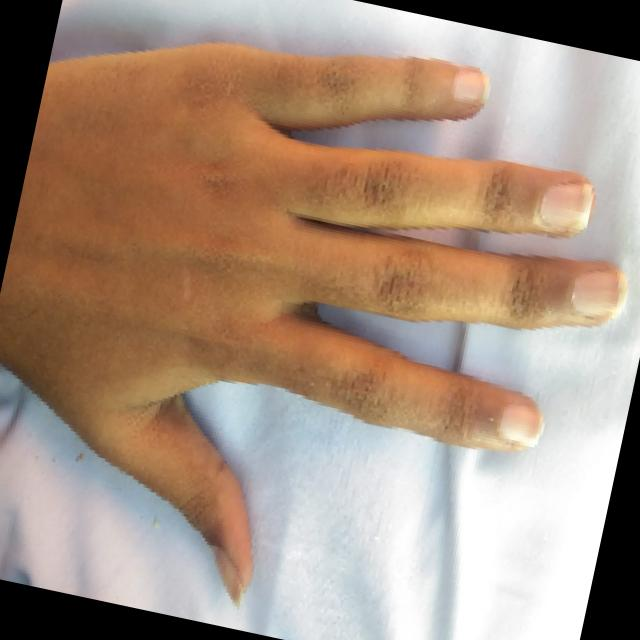Nail: (570, 268, 625, 319), (538, 182, 592, 230), (211, 545, 245, 606), (497, 402, 542, 446), (451, 67, 487, 106)
